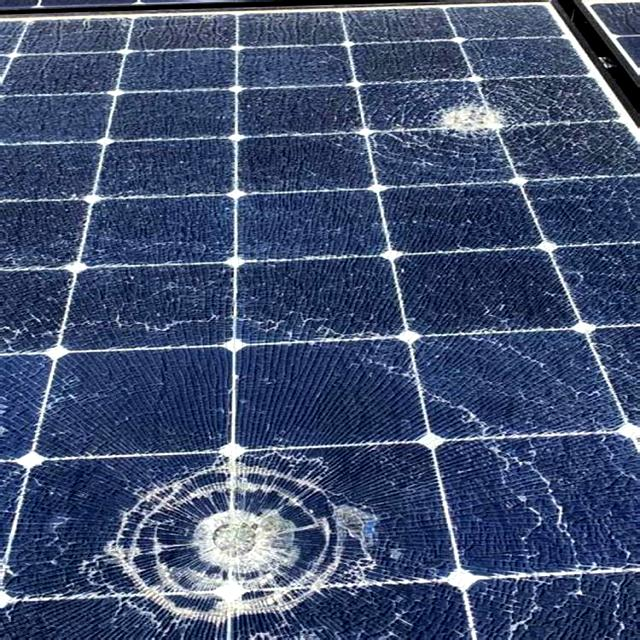hotspot: (72, 429, 400, 639), (386, 76, 532, 162)
